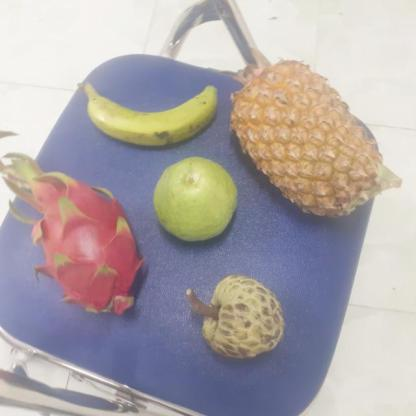annona: (196, 276, 290, 357)
banana: (81, 58, 228, 150)
guava: (153, 156, 242, 242)
pineapple: (236, 68, 387, 216)
pitaya: (30, 182, 149, 316)
